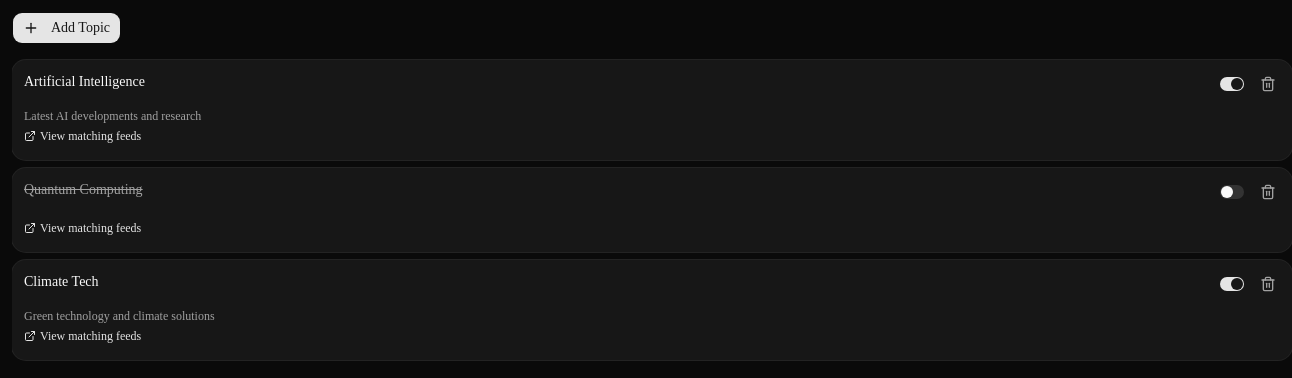
Test: Topics Management Flow › TopicList Component › deletes topic and removes it from list
This screenshot has width=1292, height=378.
Click the button named "Delete Artificial Intelligence" at (1268, 84), box 1256,72 -> 1280,96
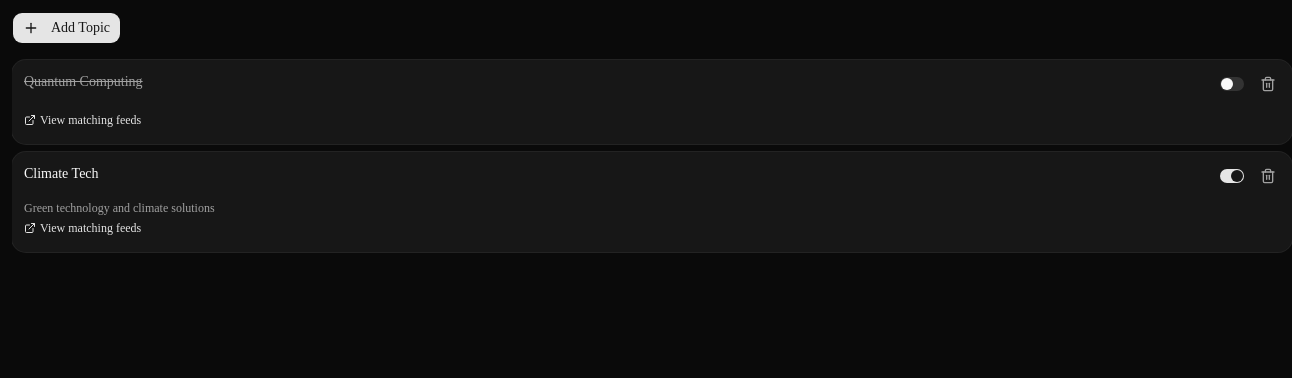
Result: the text "Artificial Intelligence" is gone
